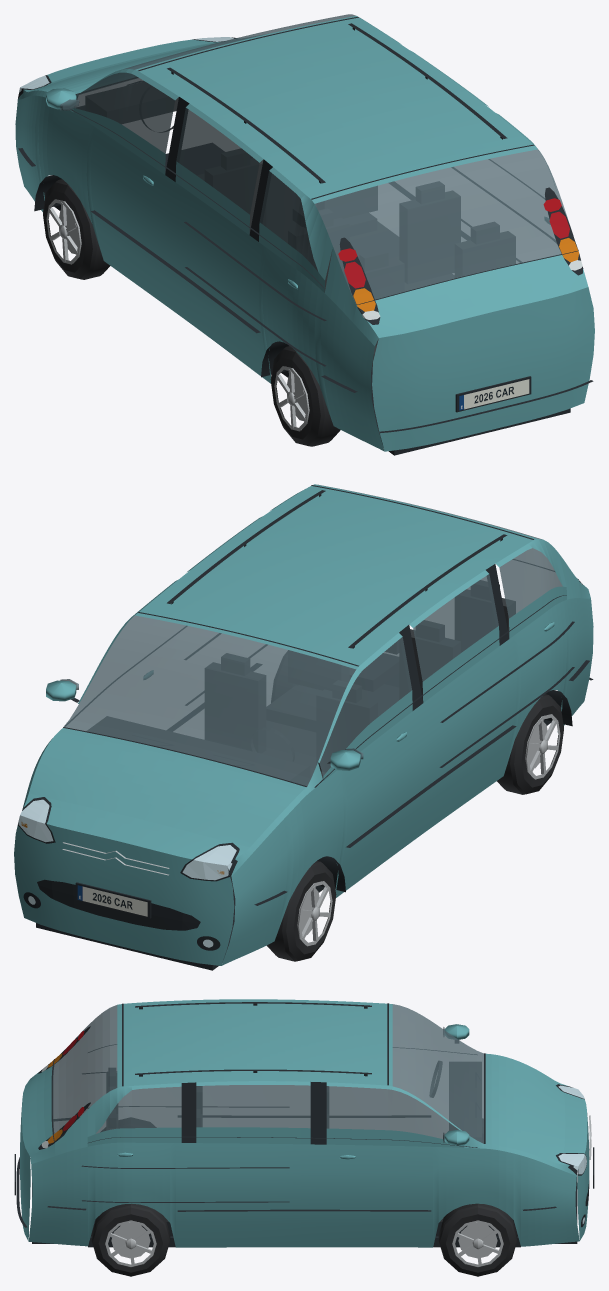
The model's file is Entrega_13_LOD1.glb.
The picture shows the model from 3 angles, top to bottom: view 1: azimuth 30°, elevation 25°; view 2: azimuth 150°, elevation 25°; view 3: azimuth 270°, elevation 25°; orthographic projection. The views are drawn at different scales.
Visible parts, largest first — view 1: Body, Glass, Interior, Wheel_RL, Wheel_FL, Plates, BrakeLights; view 2: Body, Glass, Interior, Wheel_FL, Wheel_RL, Headlights, Plates; view 3: Body, Glass, Wheel_RR, Wheel_FR, Interior, Headlights.
Boxes of the visible parts, box(x1,y1,x2,y2) form: Body: box(15, 15, 594, 455); Glass: box(60, 14, 568, 304); Interior: box(86, 82, 515, 366); Wheel_RL: box(270, 346, 340, 446); Wheel_FL: box(43, 179, 110, 279); Plates: box(459, 379, 529, 410); BrakeLights: box(344, 211, 569, 288); Body: box(14, 484, 593, 970); Glass: box(60, 484, 562, 786); Interior: box(88, 580, 515, 878); Wheel_FL: box(266, 861, 336, 961); Wheel_RL: box(497, 694, 563, 794); Headlights: box(18, 799, 236, 947); Plates: box(77, 885, 147, 916); Body: box(14, 999, 594, 1247); Glass: box(52, 1004, 483, 1143); Wheel_RR: box(91, 1203, 170, 1276); Wheel_FR: box(438, 1203, 517, 1276); Interior: box(107, 1061, 481, 1221); Headlights: box(558, 1085, 586, 1223).
Bounding box in the file's own units: 2.22 × 1.76 × 4.73.
13 materials, 1 textured.
